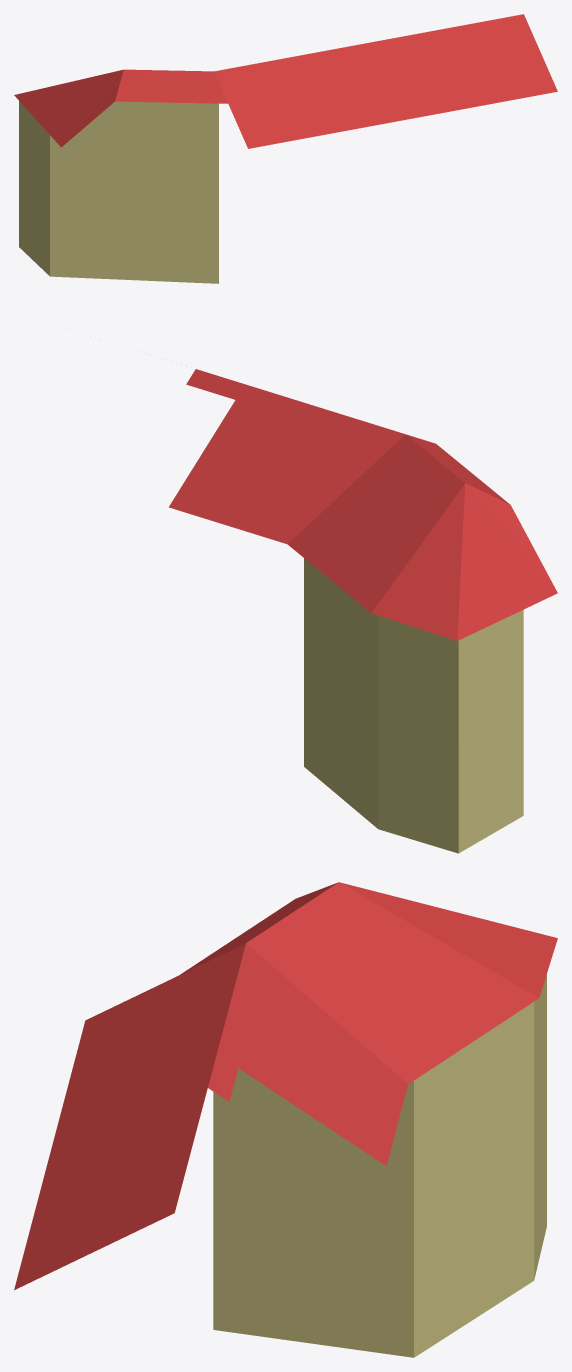
3 renders of one model, top to bottom at view 1: azimuth 30°, elevation 25°; view 2: azimuth 150°, elevation 25°; view 3: azimuth 270°, elevation 25°, orthographic. The views are drawn at different scales.
Size of the model in its own units: 21.25 by 12.53 by 9.92.
